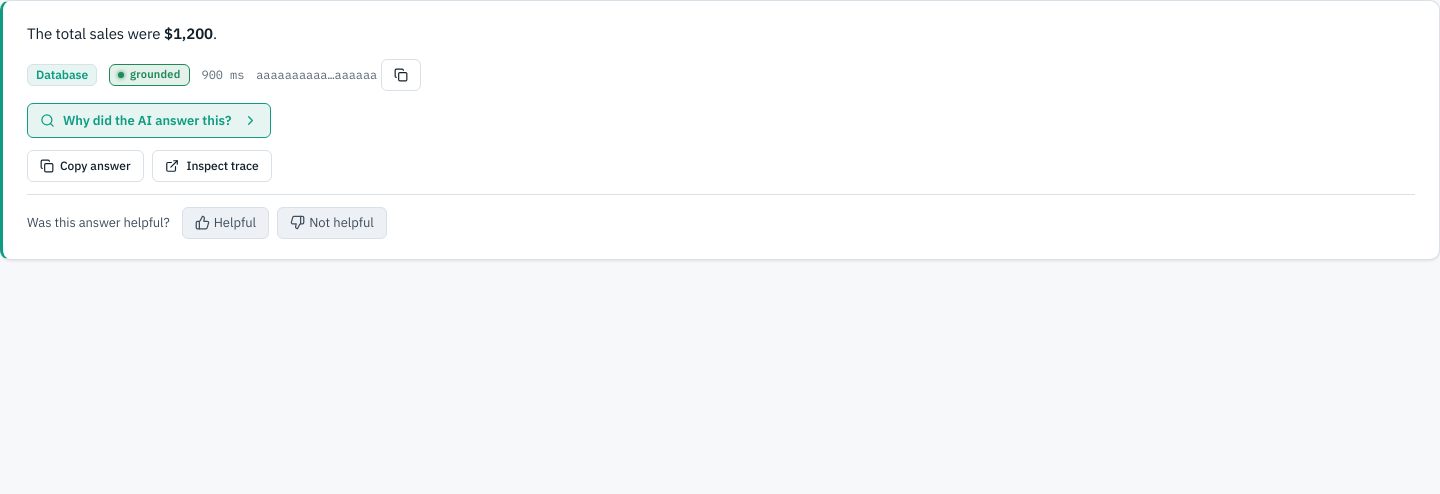
it: AnswerCard feedback › reveals the detail form on Not helpful and posts rating 1 with comment and expected answer
// Clicking Not helpful should not submit yet — it opens the optional form.
Click the button "Not helpful" at (332, 222), box [277,206,387,238]
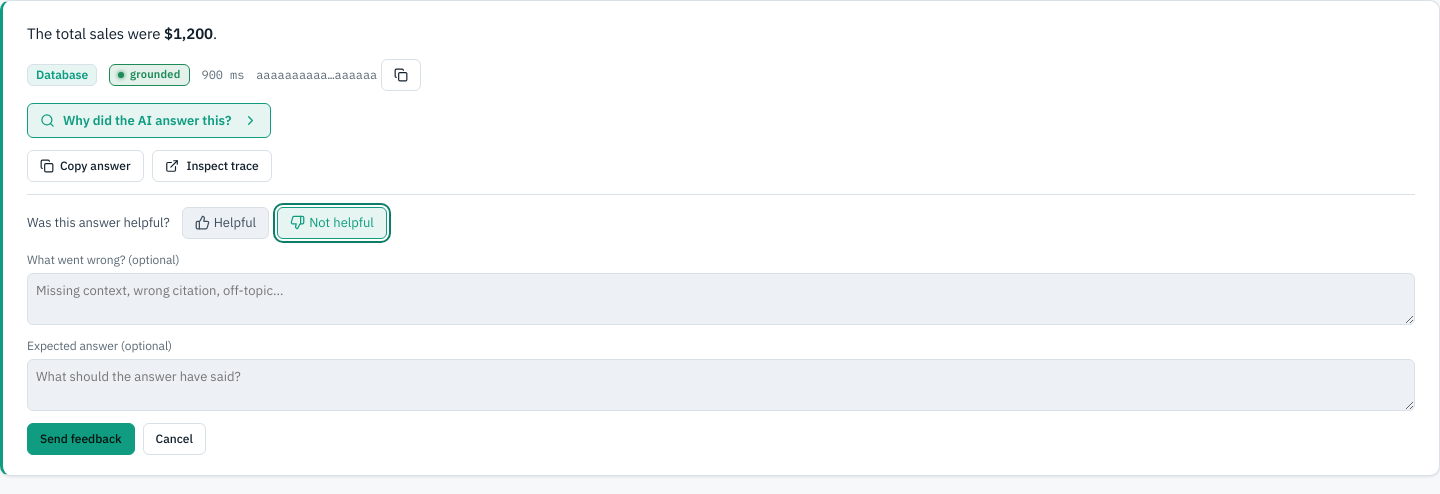
Type "Cited the wrong document." into the text box with placeholder "Missing context, wrong citation, off-topic…" at (721, 298), box [27,272,1415,324]
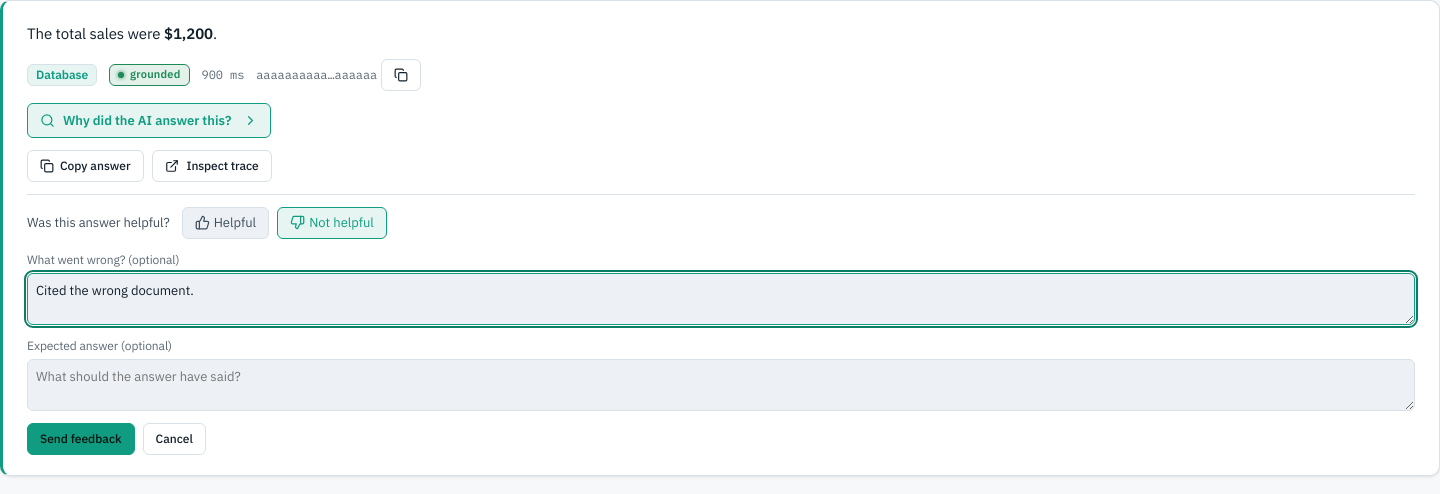
Type "Total was $2,400." into the text box with placeholder "What should the answer have said?" at (721, 384), box [27,358,1415,410]
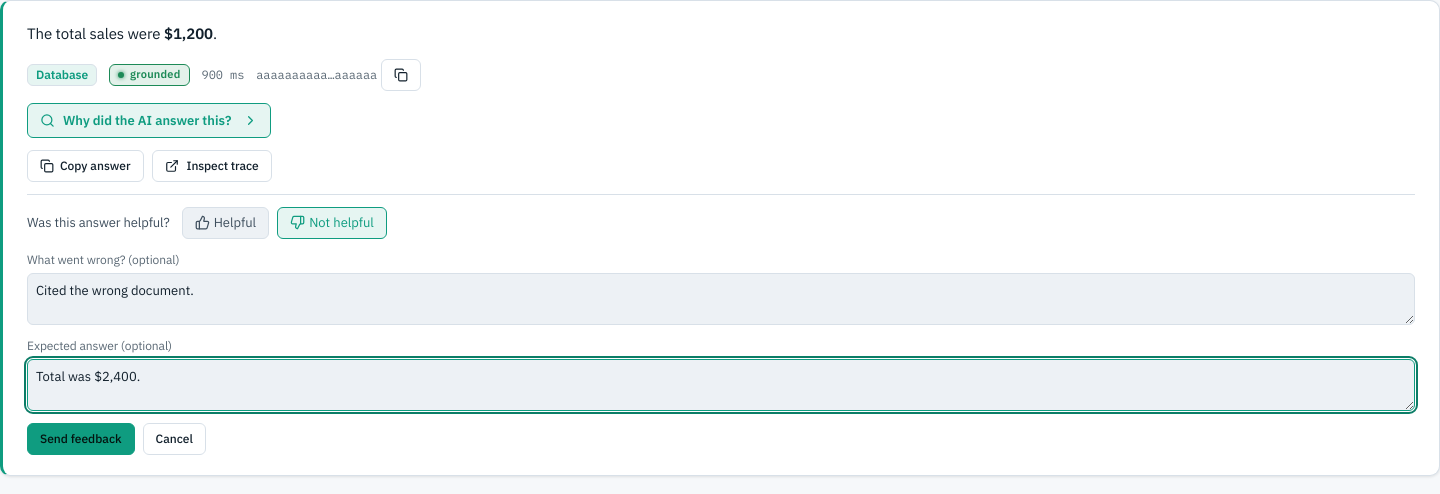
Click the button "Send feedback" at (81, 438), box [27,422,135,454]
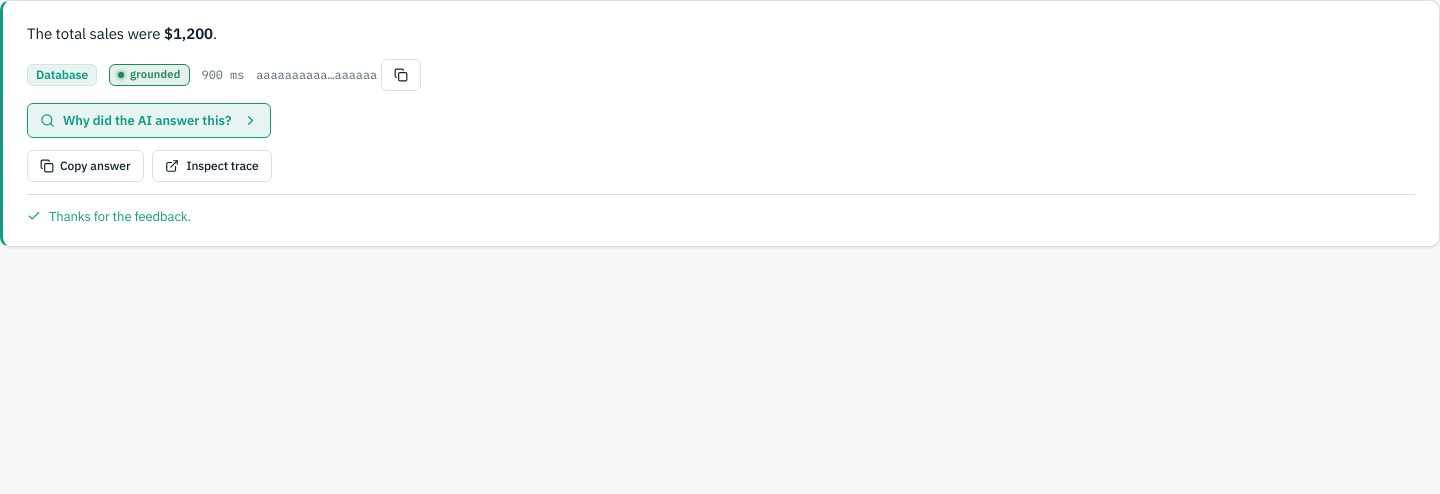
Expected: the text "Thanks for the feedback." is shown, [27,194,1415,226]
